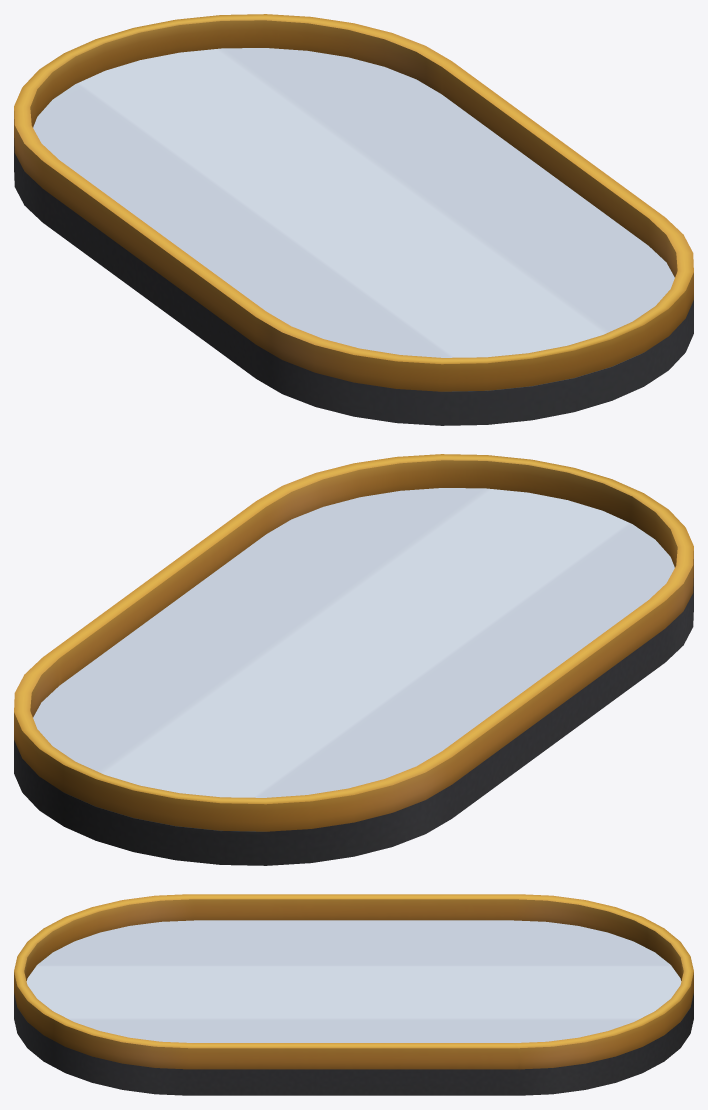
Rendered from platform_5.fbx.
The picture shows the model from 3 angles, top to bottom: view 1: azimuth 30°, elevation 25°; view 2: azimuth 150°, elevation 25°; view 3: azimuth 270°, elevation 25°; orthographic projection. The views are drawn at different scales.
Parts seen in each view (by area): view 1: Cylinder.005, Cylinder.006; view 2: Cylinder.005, Cylinder.006; view 3: Cylinder.005, Cylinder.006.
Part boxes in pixels (x1,y1,x2,y2): Cylinder.005: (14,48,693,425); Cylinder.006: (14,14,693,391); Cylinder.005: (14,488,693,865); Cylinder.006: (14,454,693,831); Cylinder.005: (14,920,693,1095); Cylinder.006: (14,894,693,1069).
Bounding box in the file's own units: 3426 × 493 × 6392.
